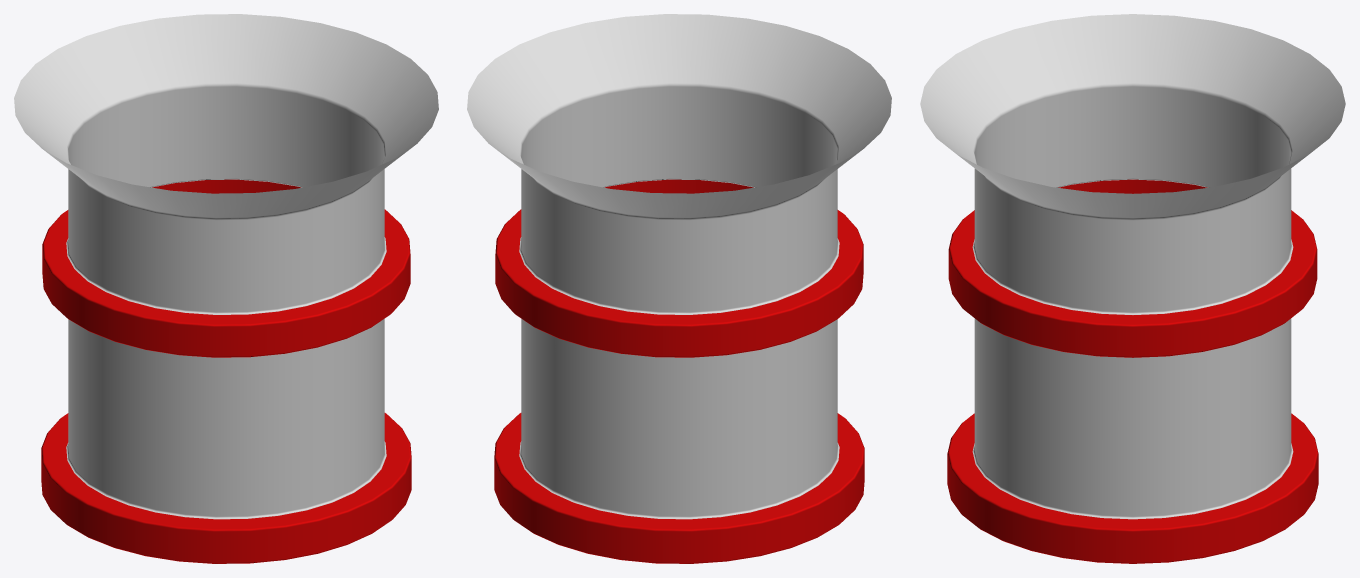
File: tank.fbx
3 renders of one model, left to right at view 1: azimuth 30°, elevation 25°; view 2: azimuth 150°, elevation 25°; view 3: azimuth 270°, elevation 25°, orthographic.
Visible parts, largest first — view 1: tank; view 2: tank; view 3: tank.
Part boxes in pixels (x1,y1,x2,y2): tank: [14, 14, 438, 563]; tank: [467, 14, 891, 563]; tank: [920, 14, 1345, 563].
Bounding box in the file's own units: 605 × 600 × 605.
